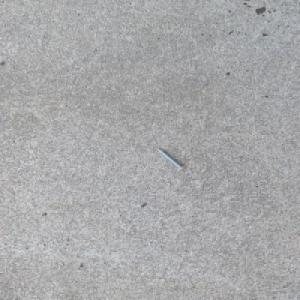Screw: (155, 147, 185, 170)
